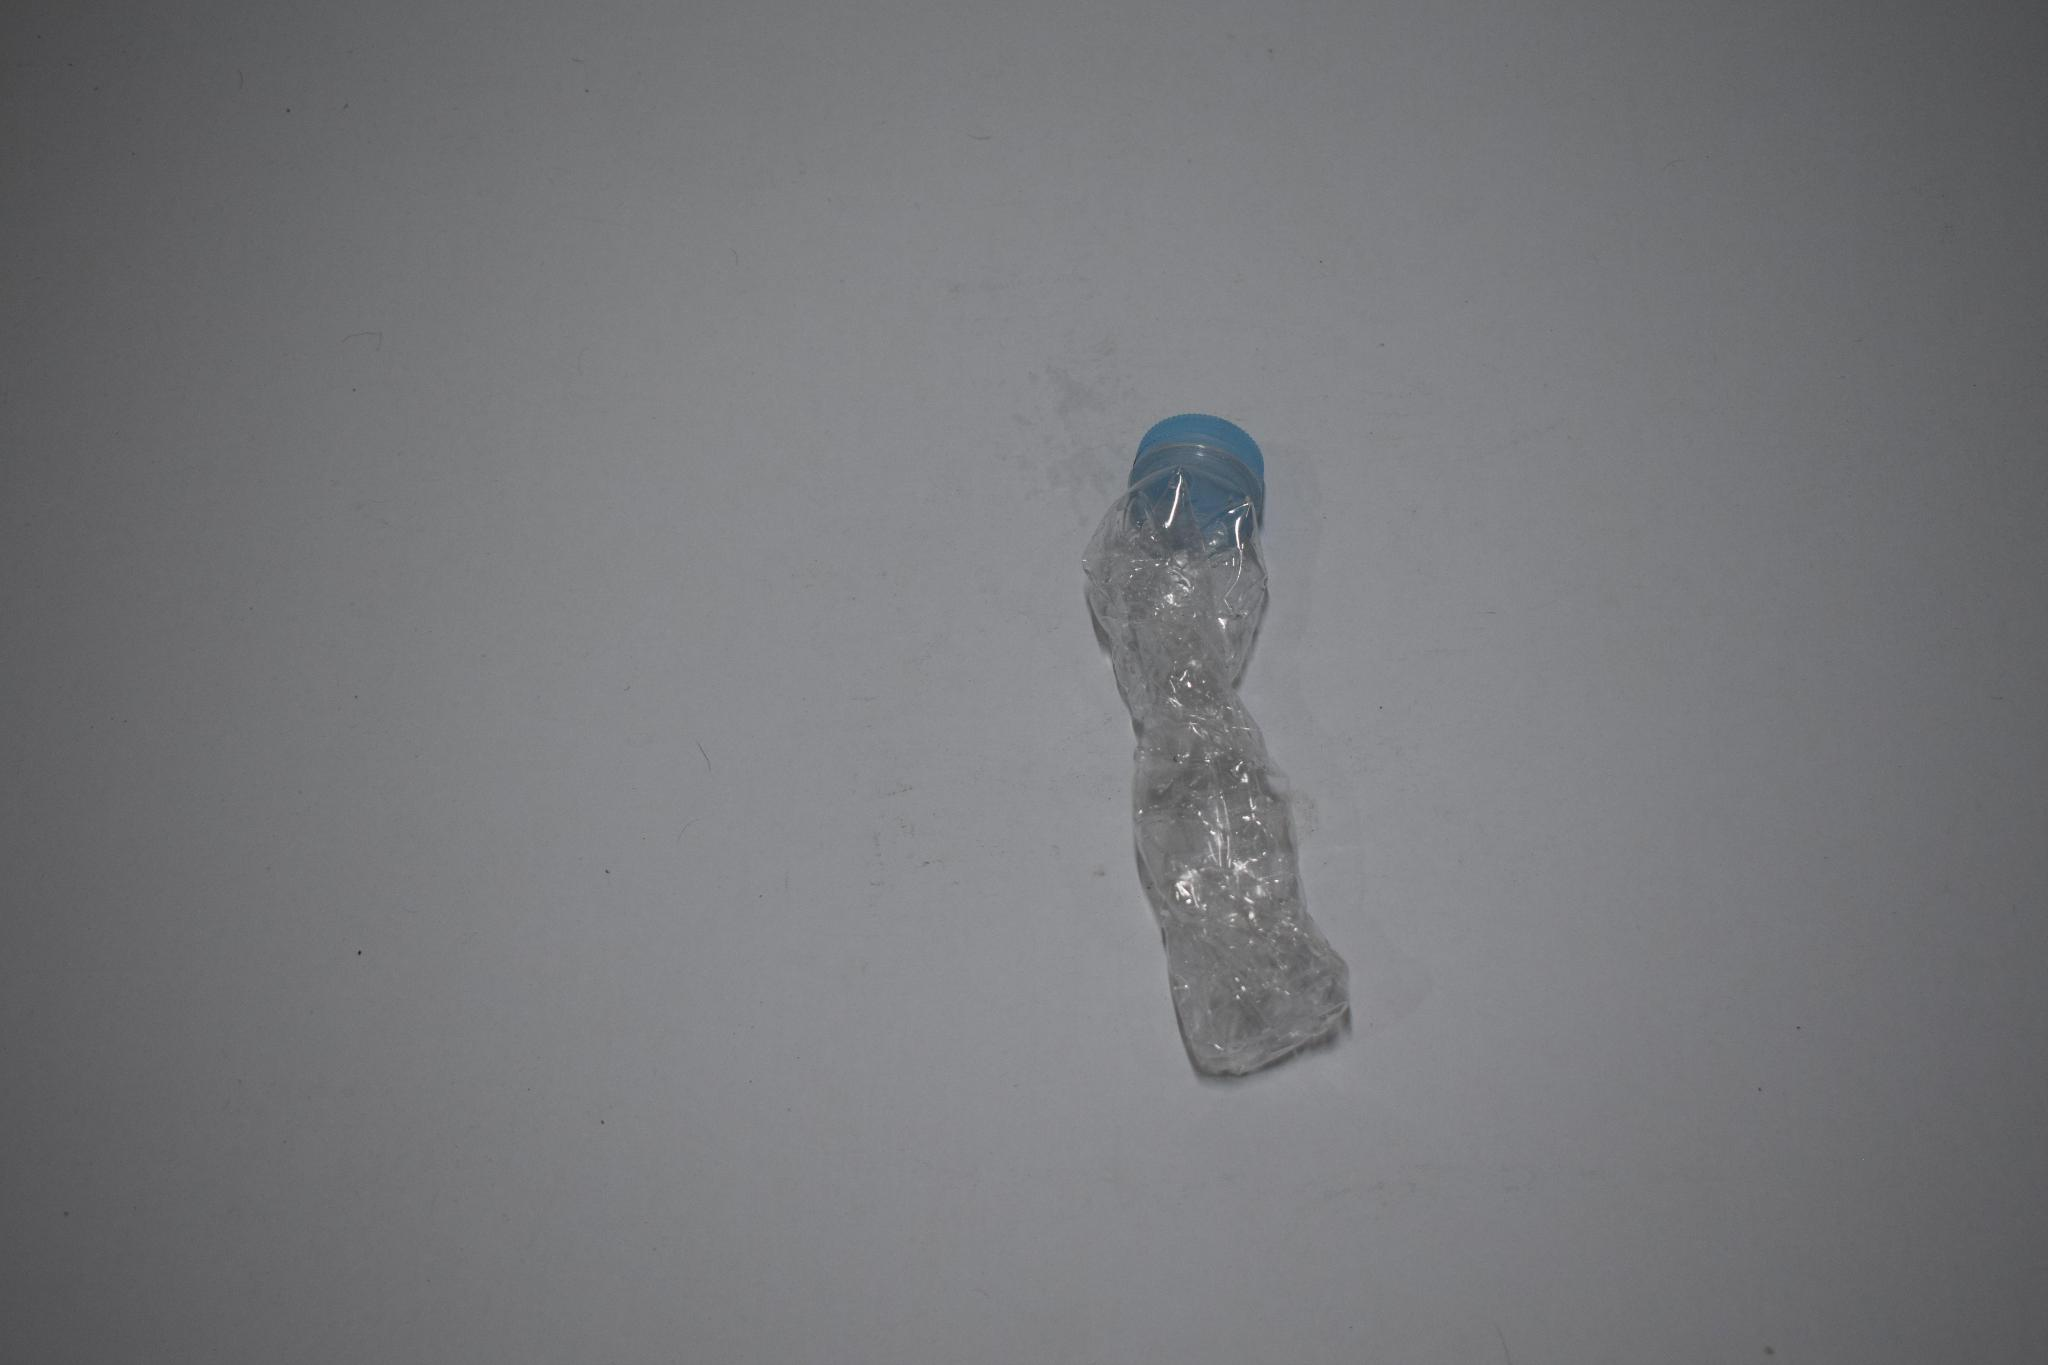bottle: (1060, 366, 1340, 1106)
